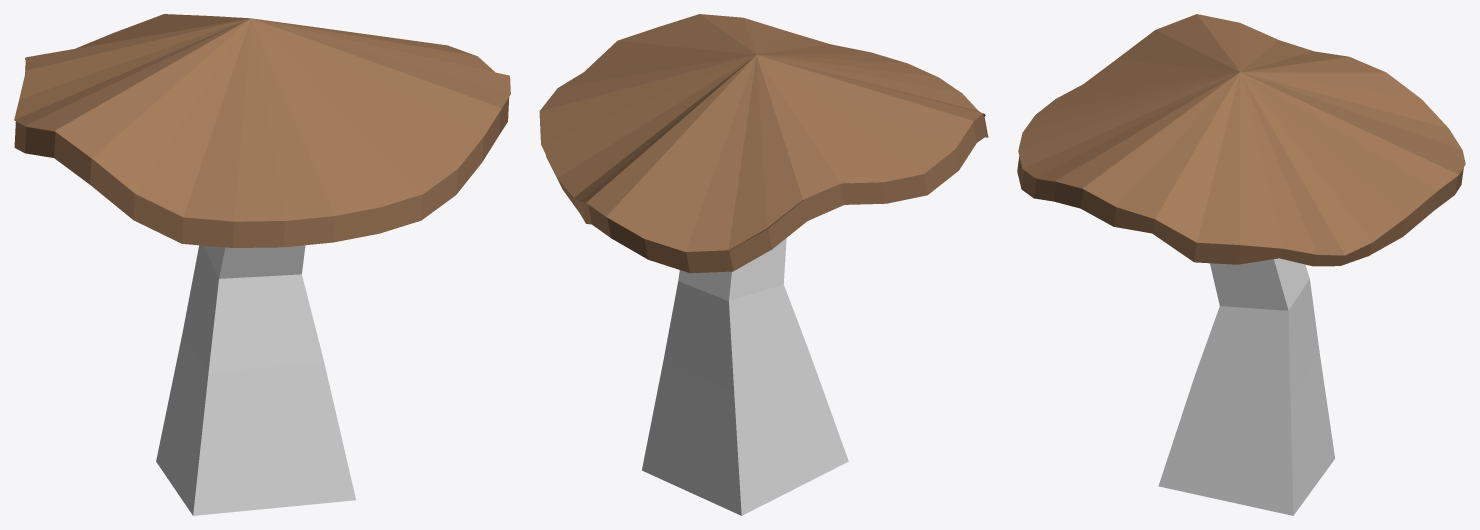
File: Mushroom.fbx
The picture shows the model from 3 angles, left to right: view 1: azimuth 30°, elevation 25°; view 2: azimuth 150°, elevation 25°; view 3: azimuth 270°, elevation 25°; orthographic projection. The views are drawn at different scales.
Visible parts, largest first — view 1: Cone, Cube; view 2: Cone, Cube; view 3: Cone, Cube.
Boxes of the visible parts, x1,y1,x2,y2 form: Cone: (14,14,510,247); Cube: (156,245,355,515); Cone: (539,14,988,273); Cube: (642,238,848,515); Cone: (1017,14,1465,266); Cube: (1158,258,1334,515).
Bounding box in the file's own units: 136 × 136 × 137.
